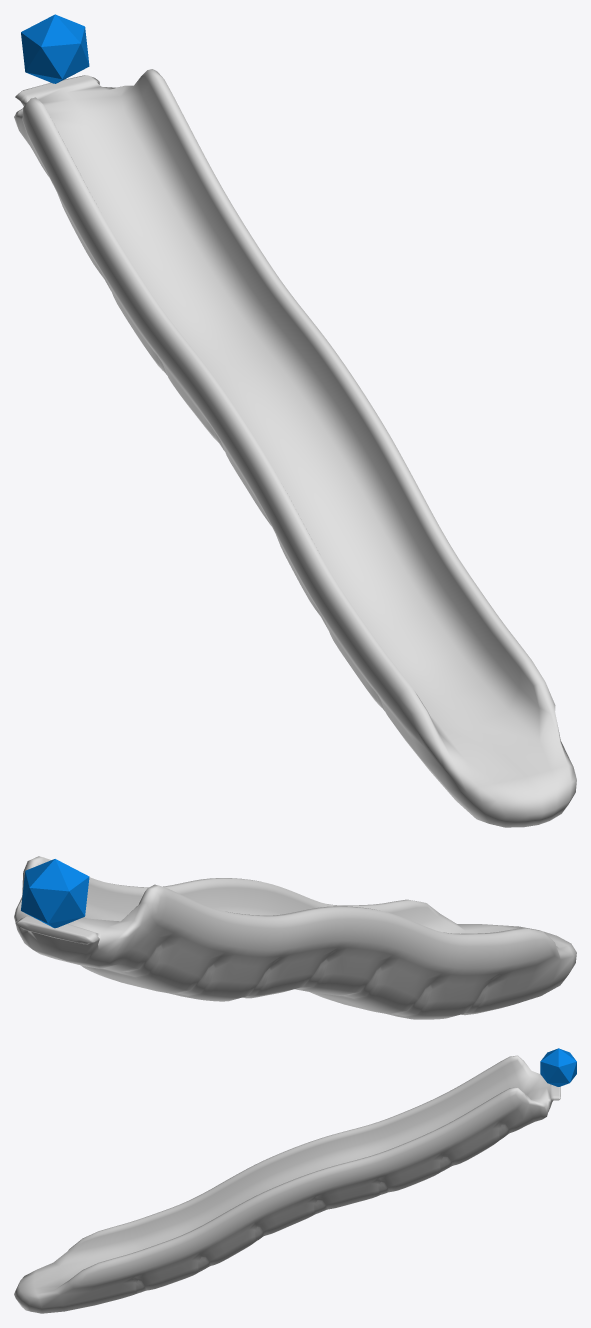
Rendered from 14 scoope wave slide.glb.
3 views of the same model, one above another, from view 1: azimuth 30°, elevation 25°; view 2: azimuth 150°, elevation 25°; view 3: azimuth 270°, elevation 25° (orthographic). The views are drawn at different scales.
Parts seen in each view (by area): view 1: Plane.035, Joint.010; view 2: Plane.035, Joint.010; view 3: Plane.035, Joint.010.
Boxes of the visible parts, x1,y1,x2,y2 form: Plane.035: [14, 69, 576, 827]; Joint.010: [21, 14, 89, 83]; Plane.035: [14, 856, 576, 1019]; Joint.010: [21, 859, 89, 928]; Plane.035: [14, 1055, 560, 1313]; Joint.010: [540, 1048, 576, 1086].
Bounding box in the file's own units: 0.6251 × 2.02 × 3.98.
